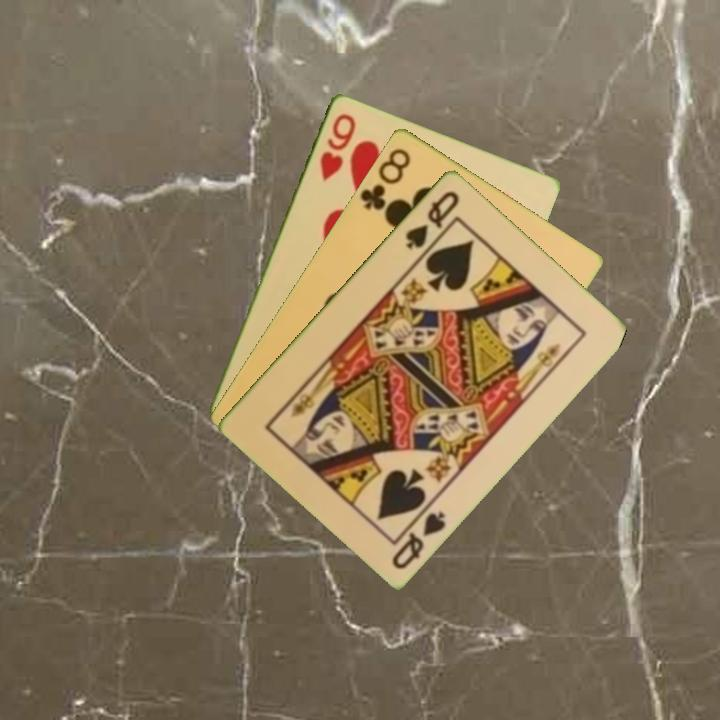8c: (356, 144, 414, 216)
9h: (316, 109, 359, 184)
Qs: (388, 498, 449, 572), (402, 186, 463, 252)
